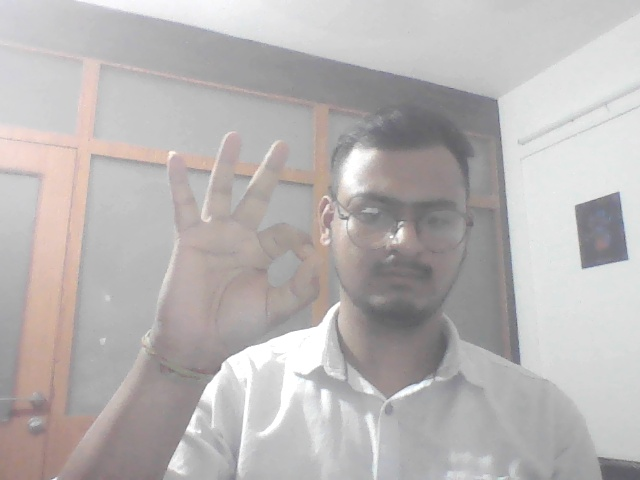OK: (149, 128, 334, 365)
